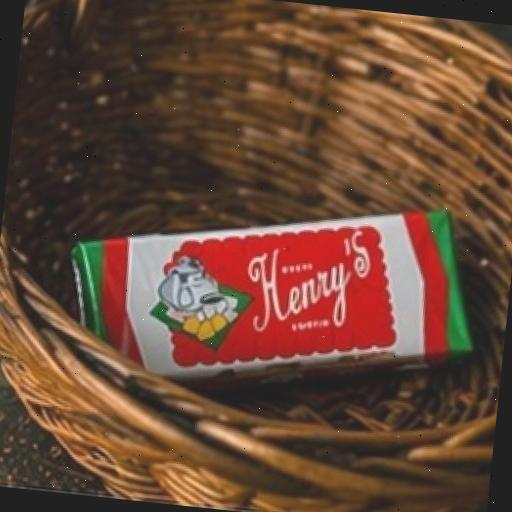henry-s: (20, 148, 512, 469)
